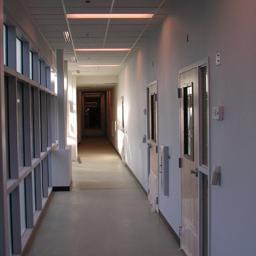Lavamanos: (58, 146, 74, 191)
Puerta: (177, 71, 209, 255), (144, 83, 161, 211)
Ventana: (4, 33, 50, 255)
